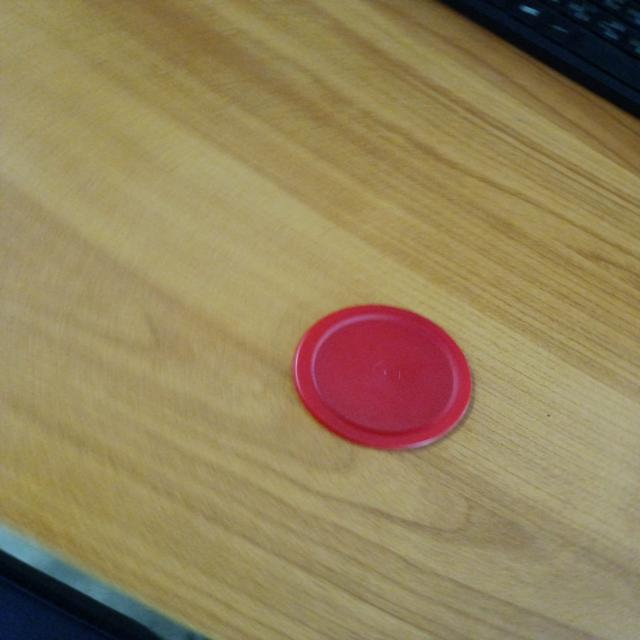chip: (288, 301, 474, 450)
